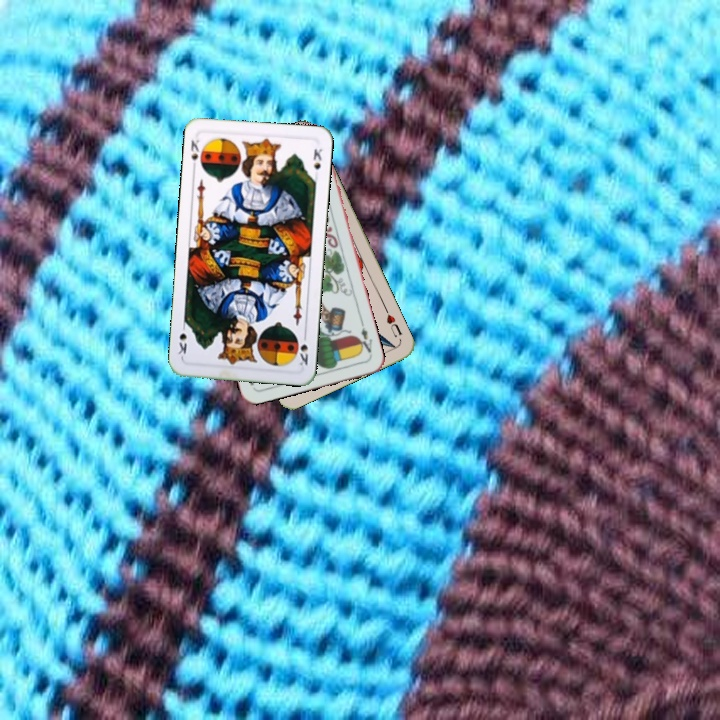EA: (354, 318, 375, 358)
HU: (381, 305, 405, 340)
SK: (295, 329, 311, 368), (186, 135, 202, 173)
